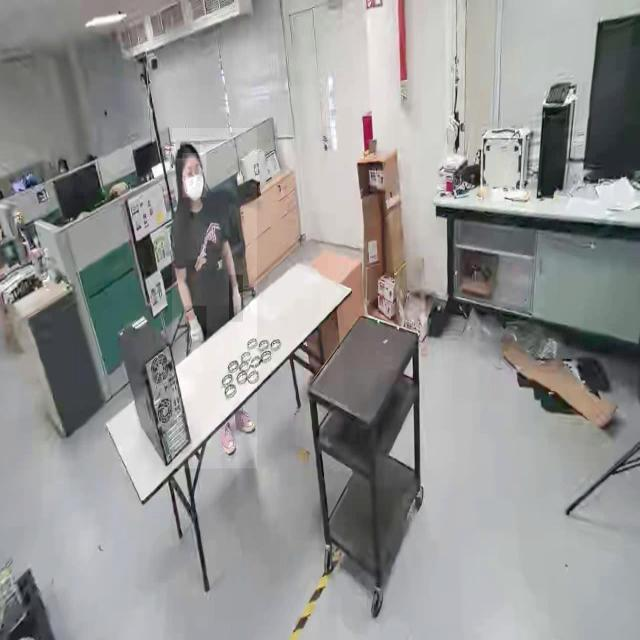face_mask: (182, 153, 206, 197)
hand_glove: (184, 306, 207, 343), (229, 274, 243, 322)
head_nohelmet: (176, 141, 200, 159)
person: (171, 128, 257, 469)
shoes: (217, 419, 237, 458), (236, 404, 256, 437)
